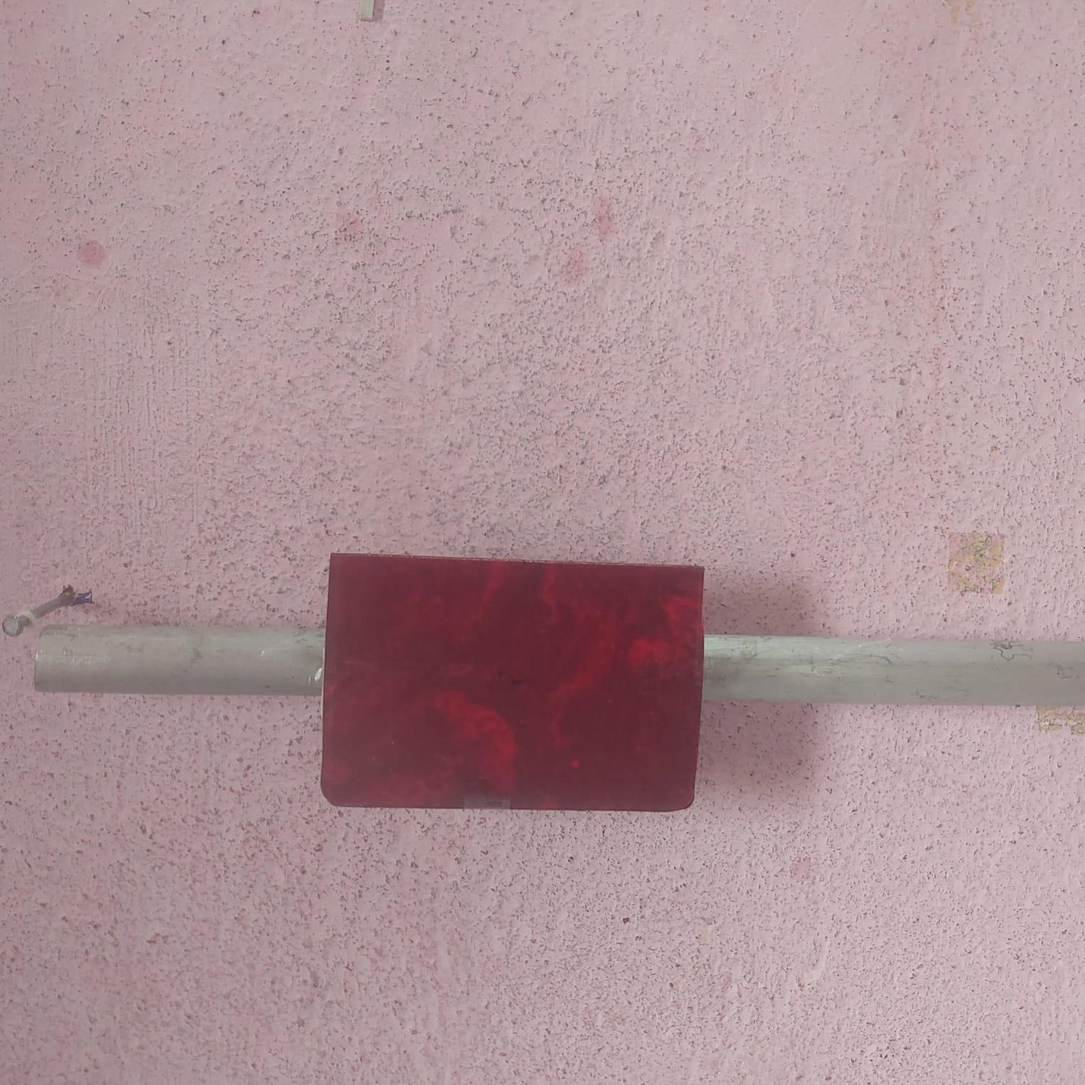wallet: (319, 556, 703, 810)
